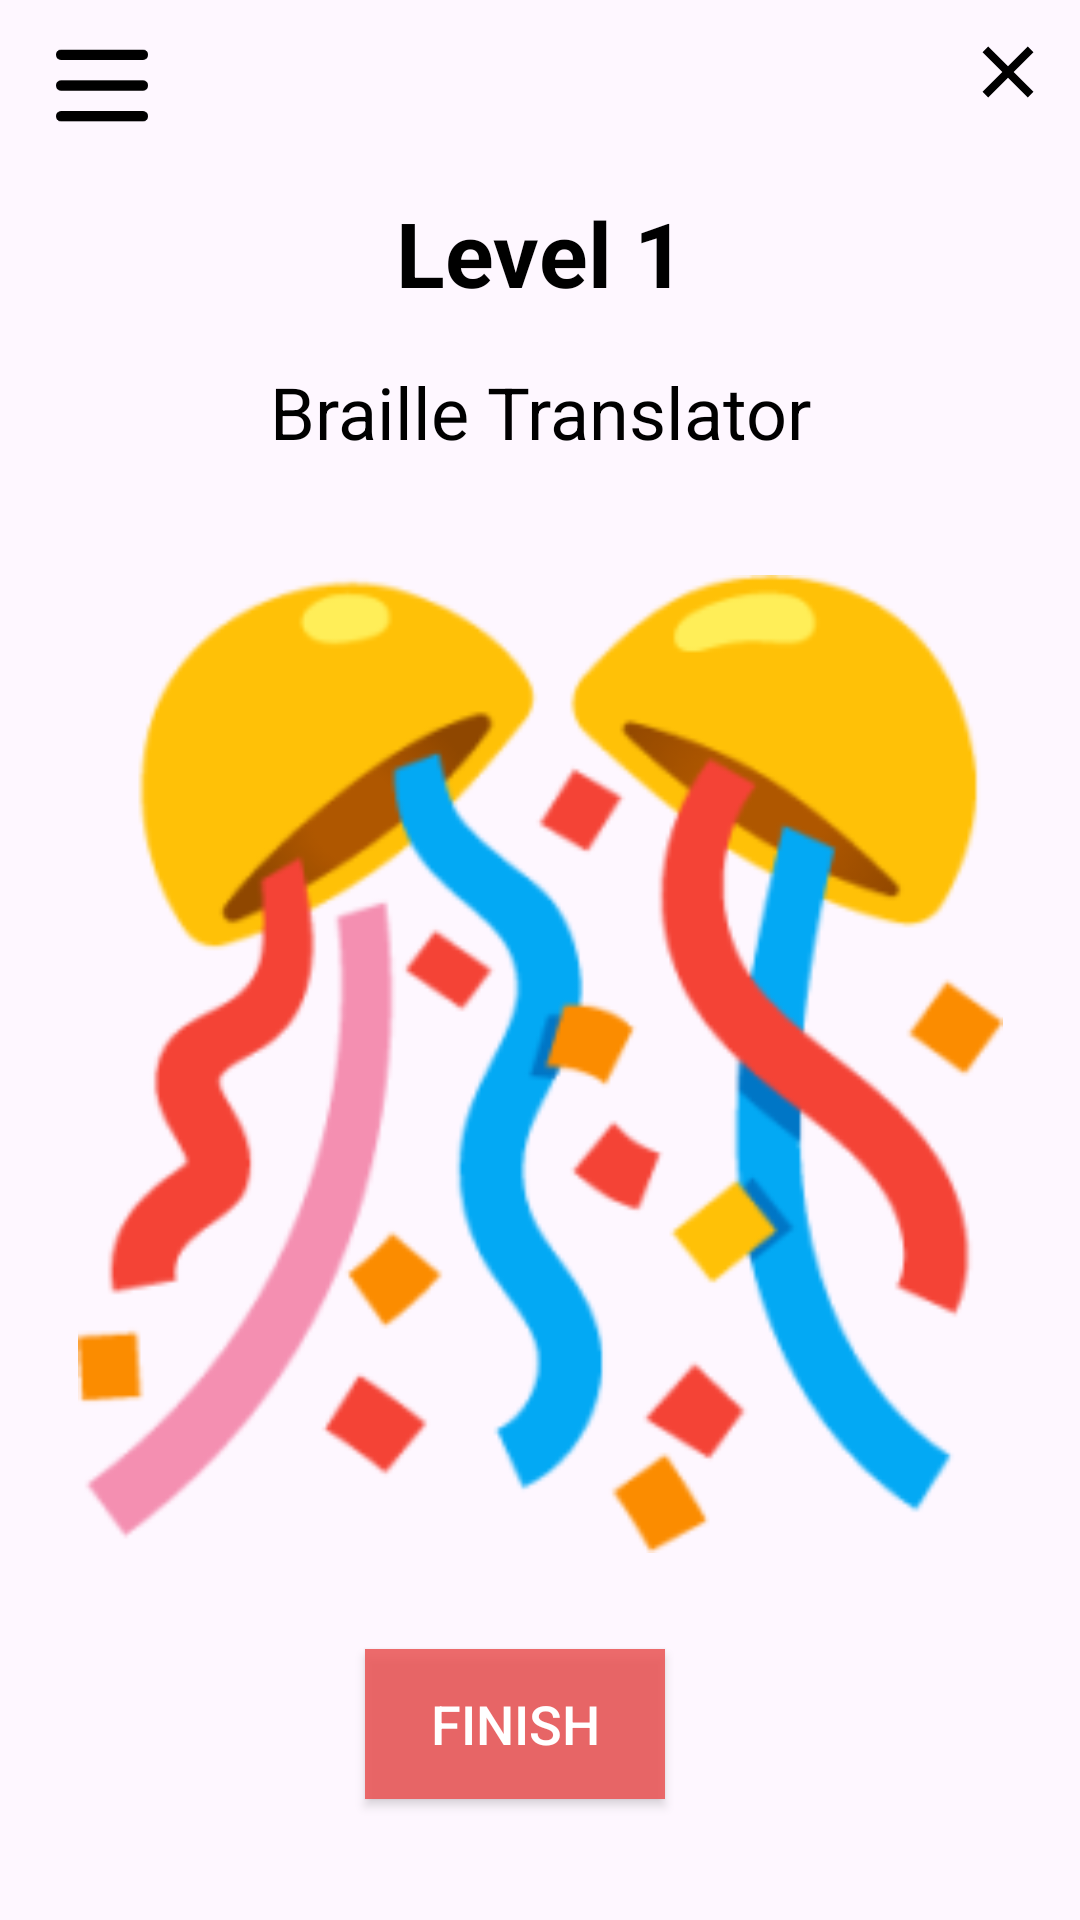

Where to tap for icons on this 1080x1920 app screen, as (x,y):
menu: (102,85)
multiplication: (1008,72)
